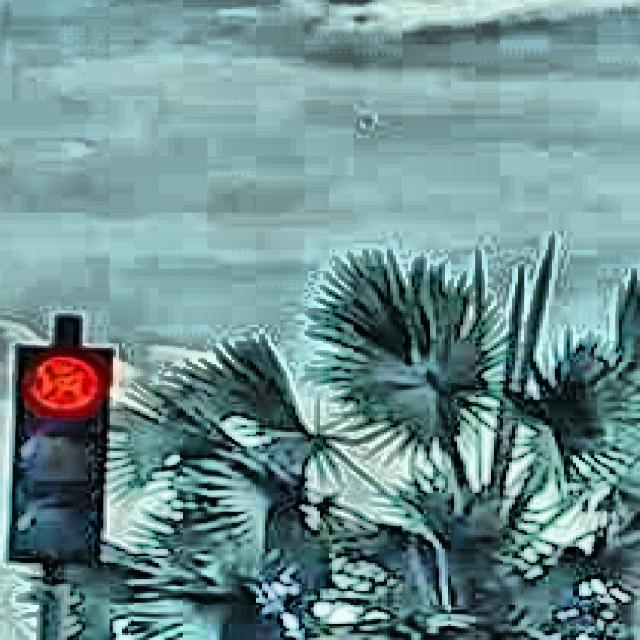red: (12, 344, 119, 558)
